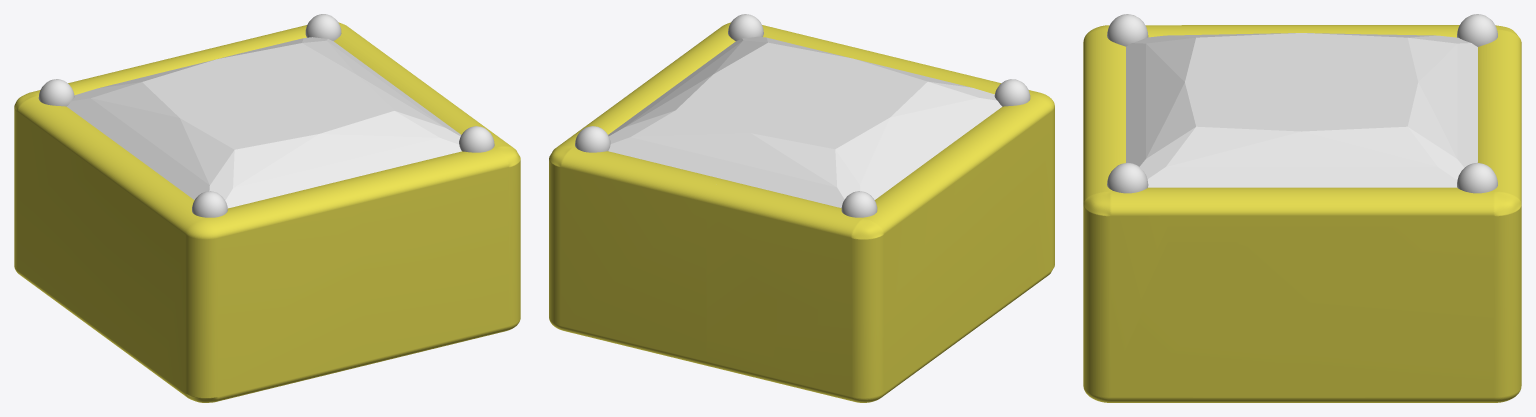
File: princess.glb
The picture shows the model from 3 angles, left to right: view 1: azimuth 30°, elevation 25°; view 2: azimuth 150°, elevation 25°; view 3: azimuth 270°, elevation 25°; orthographic projection. The views are drawn at different scales.
Parts seen in each view (by area): view 1: Sphere.002, all-diamonds.929; view 2: Sphere.002, all-diamonds.929; view 3: Sphere.002, all-diamonds.929.
Part boxes in pixels (<box>): Sphere.002: <box>14,14,520,402</box>; all-diamonds.929: <box>67,37,461,208</box>; Sphere.002: <box>549,14,1054,402</box>; all-diamonds.929: <box>608,36,1002,207</box>; Sphere.002: <box>1083,14,1521,402</box>; all-diamonds.929: <box>1126,33,1477,187</box>.
Bounding box in the file's own units: 2.64 × 1.57 × 2.64.
